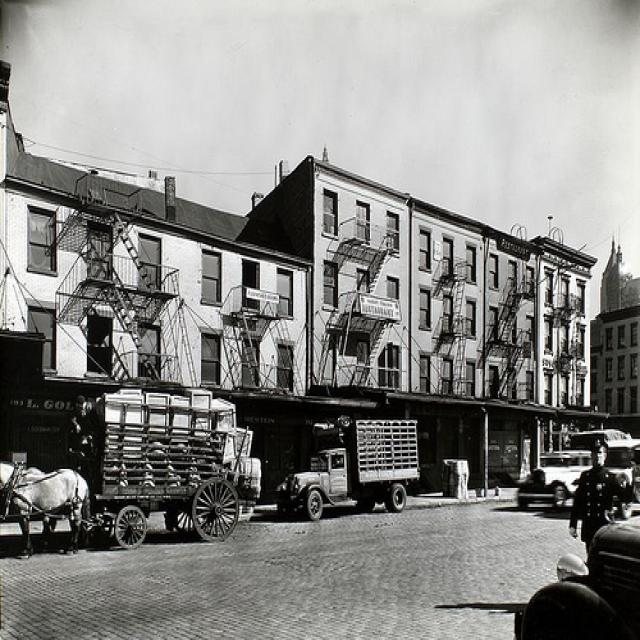Vehicle: (510, 512, 640, 632), (273, 419, 420, 518), (516, 429, 632, 510), (518, 449, 594, 511), (605, 438, 640, 523)
